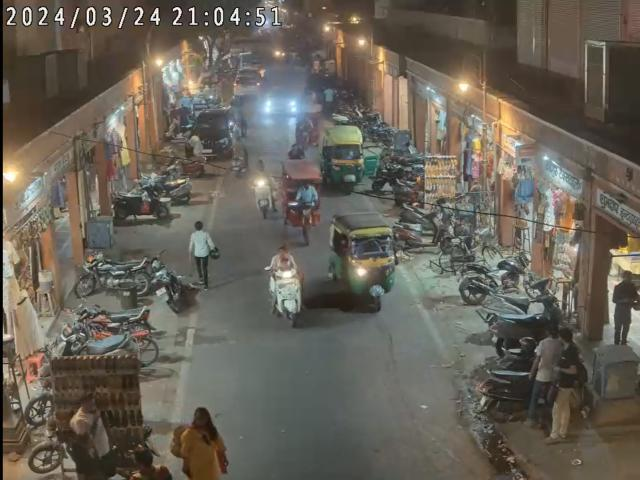auto: (328, 210, 400, 312), (278, 156, 324, 243), (320, 123, 366, 198)
bicycle: (438, 228, 498, 268)
motorbike: (456, 253, 540, 300), (69, 297, 147, 337), (70, 253, 146, 294), (149, 249, 185, 312)
person: (525, 312, 564, 424), (178, 397, 230, 480), (66, 389, 110, 476), (550, 332, 578, 440), (614, 270, 640, 354), (190, 218, 216, 287)
scooty: (490, 302, 566, 346), (39, 332, 140, 364), (392, 212, 452, 253), (112, 184, 170, 218)
scooty-rider: (263, 244, 310, 330), (249, 160, 274, 224)
